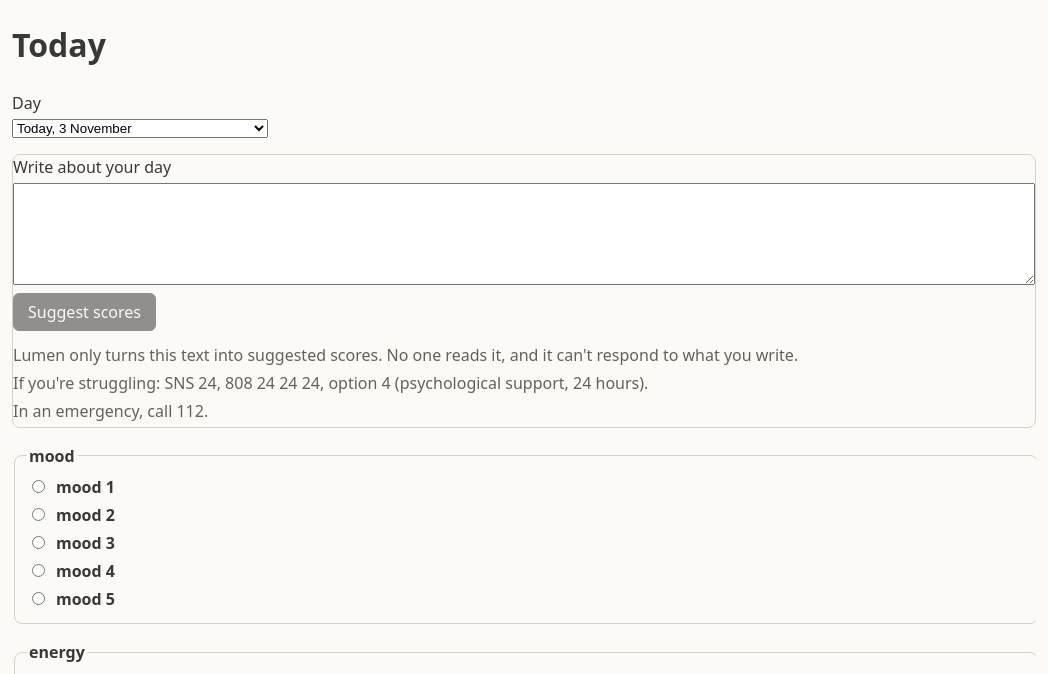
Test: free text › says so when the note gives nothing to suggest
Type "marker_note slept badly, stressful meeting" into the text box labelled "Write about your day" at point(524, 234), box [13,183,1035,285]
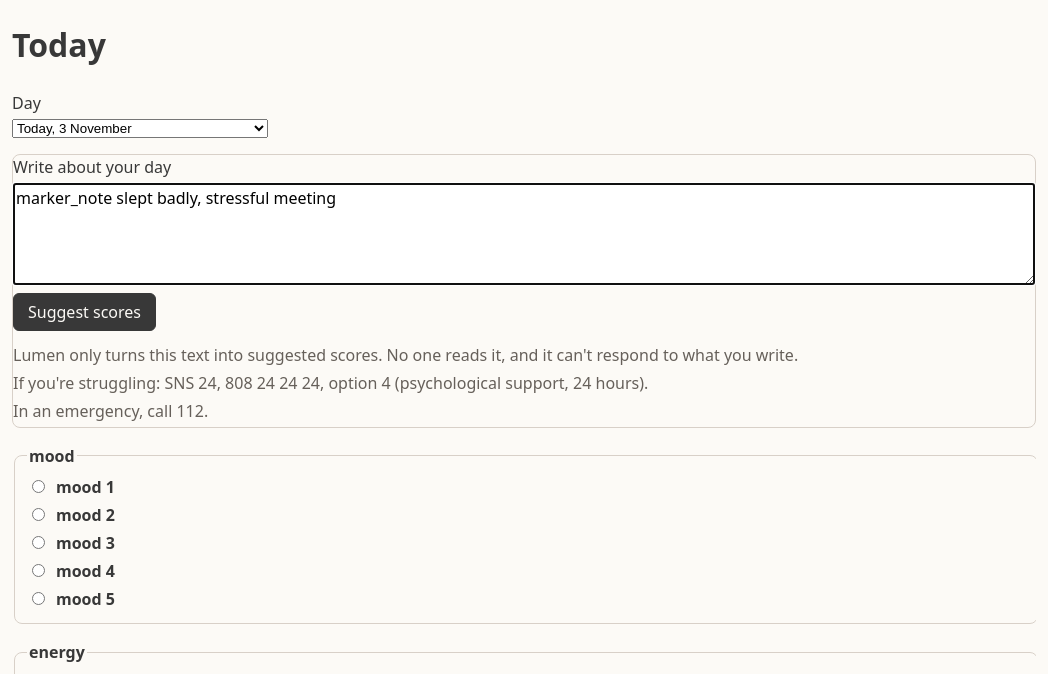
Click the button "Suggest scores" at point(84, 312), box [13,293,156,331]
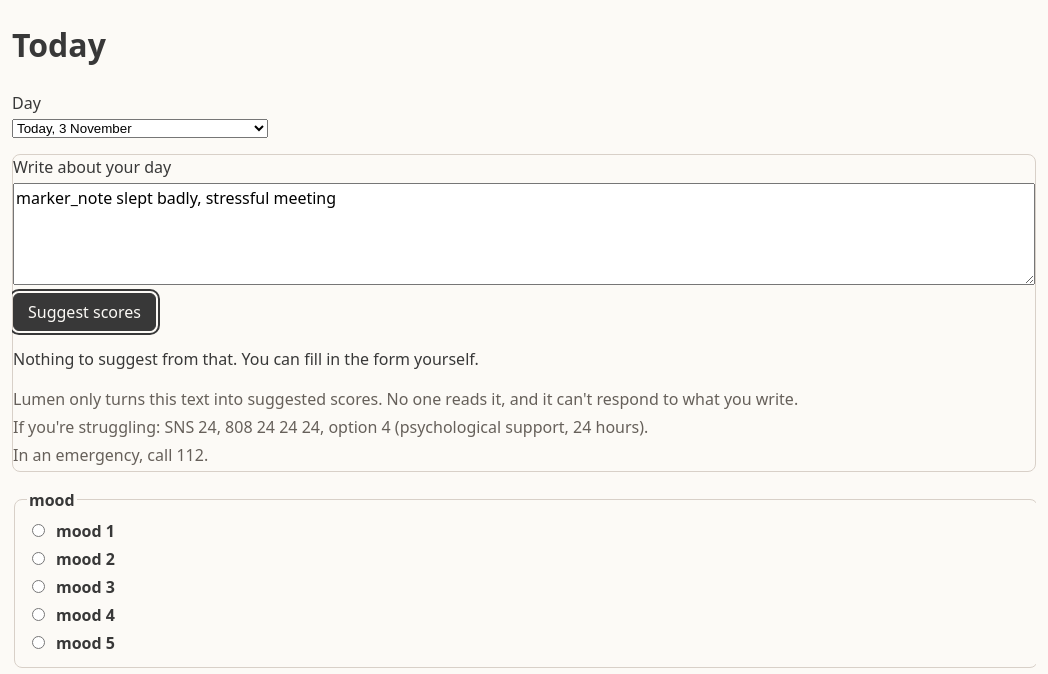
Check: the text "Nothing to suggest from that. You can fill in the form yourself." is shown, box [13,348,479,370]
